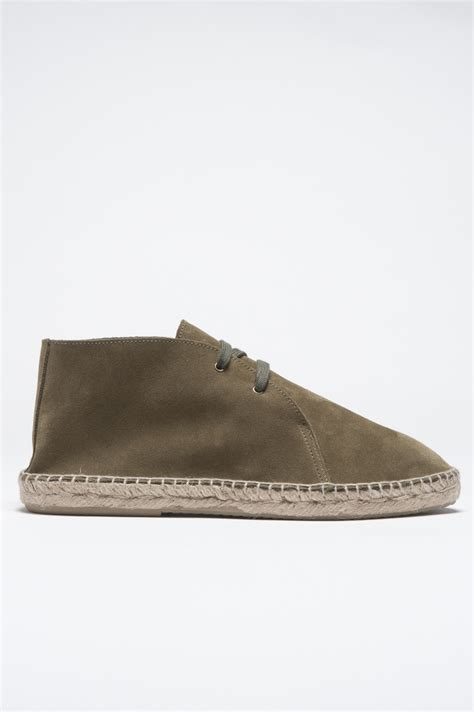gamuza: (23, 320, 453, 485)
